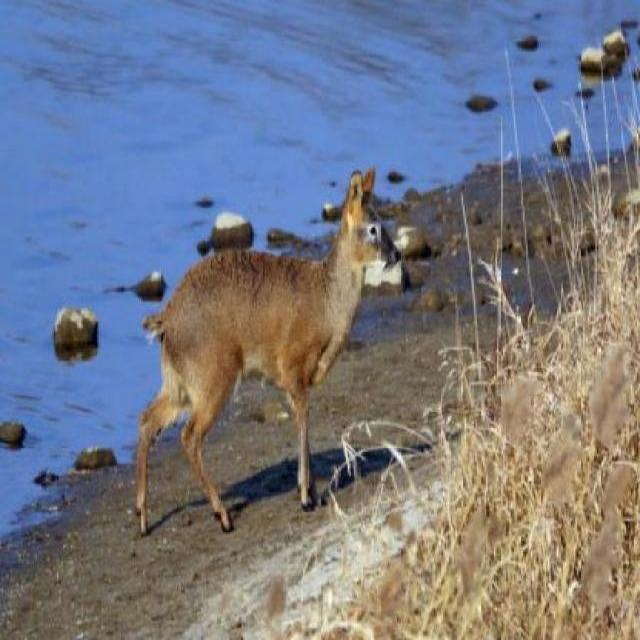deer: (122, 161, 404, 534)
